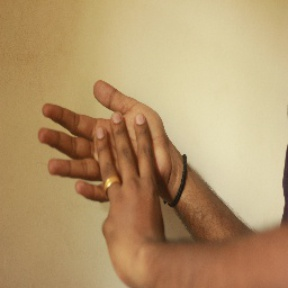M: (34, 69, 183, 230)
